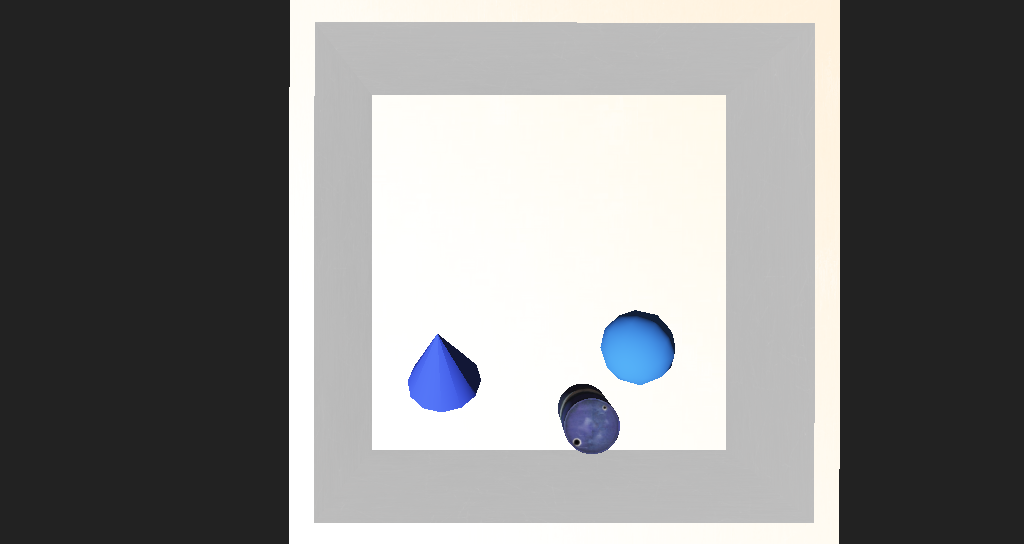cone: (515, 336, 563, 379)
cylinder: (374, 289, 448, 360)
sphere: (546, 293, 613, 336)
